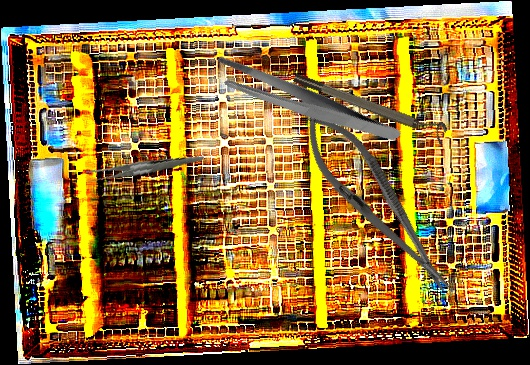Dressing Forceps: (209, 20, 402, 185), (83, 138, 204, 200)
Fixation Ring: (291, 64, 450, 145)
Needle Holder: (285, 96, 468, 308)
